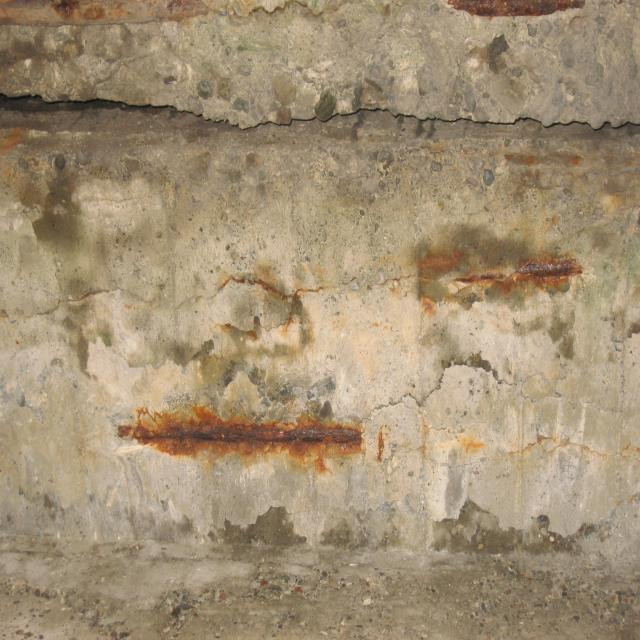corrosion: (121, 391, 636, 477), (177, 255, 345, 353), (384, 244, 591, 318), (497, 141, 611, 237), (0, 0, 208, 24), (443, 0, 591, 20), (0, 122, 36, 160)
